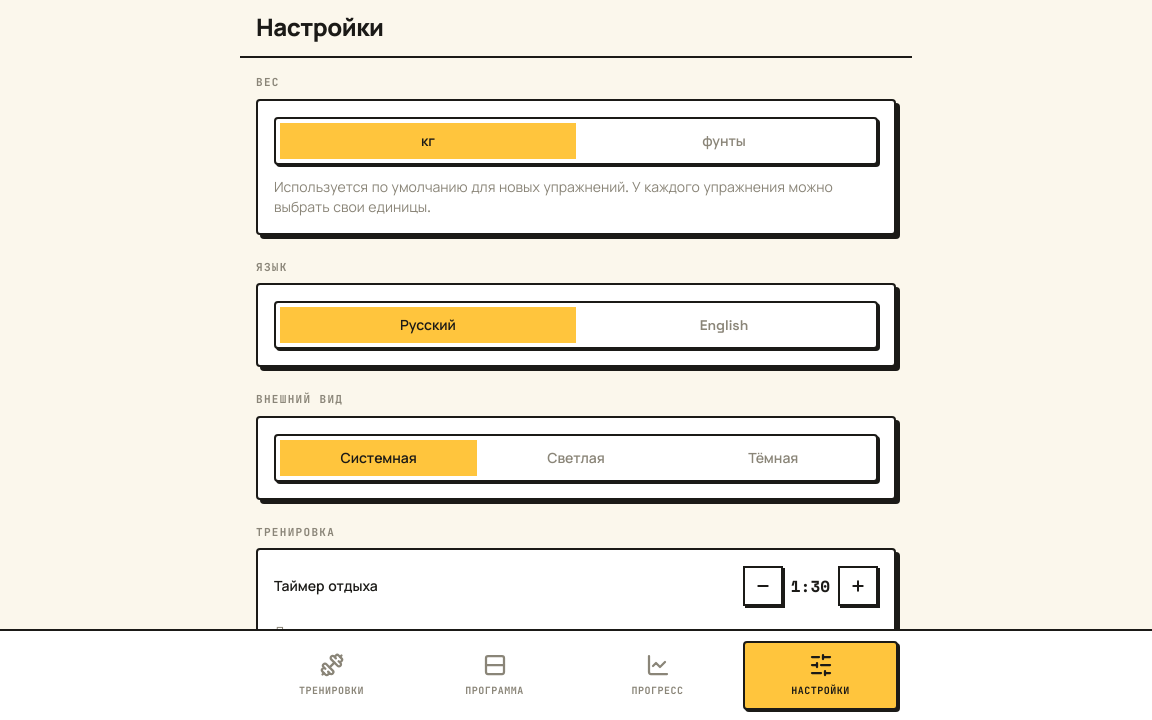
Test: Settings — weight unit › changing the default unit applies to exercises added afterwards
Expected: the heading "Настройки" is shown, [256,15,383,41]
Click the radio button labelled "фунты" at [724, 140], box [576,122,872,158]
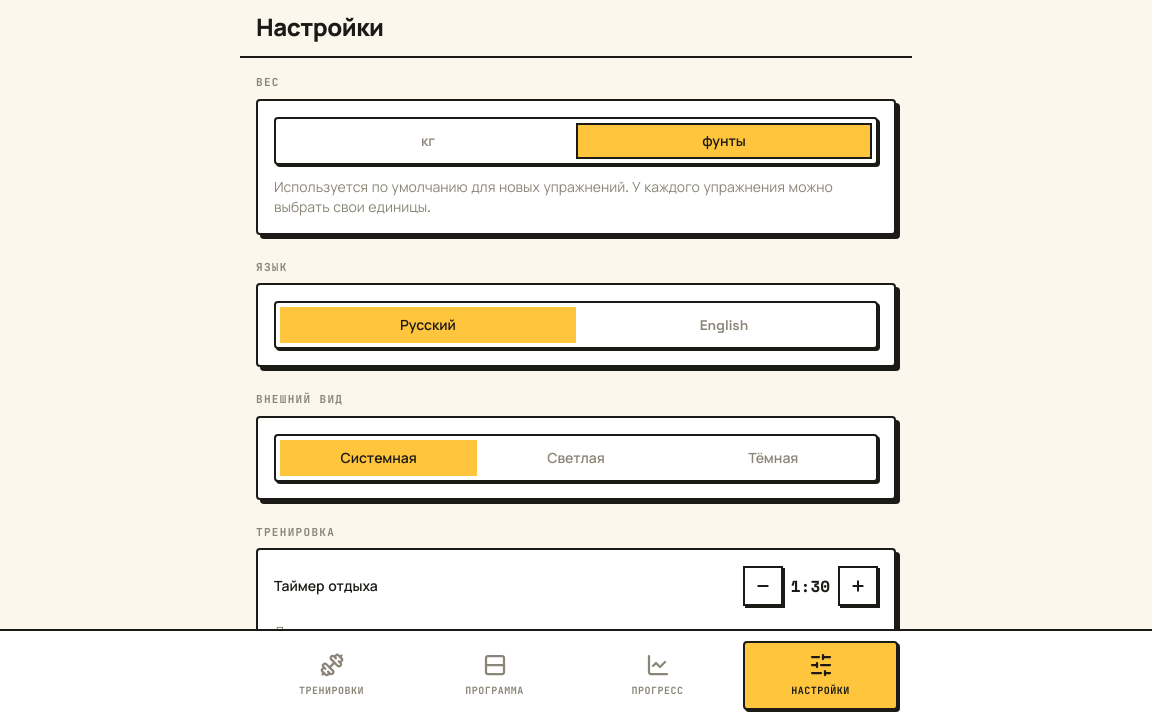
Click the link "Программа" at [495, 676], box [465,653,524,698]
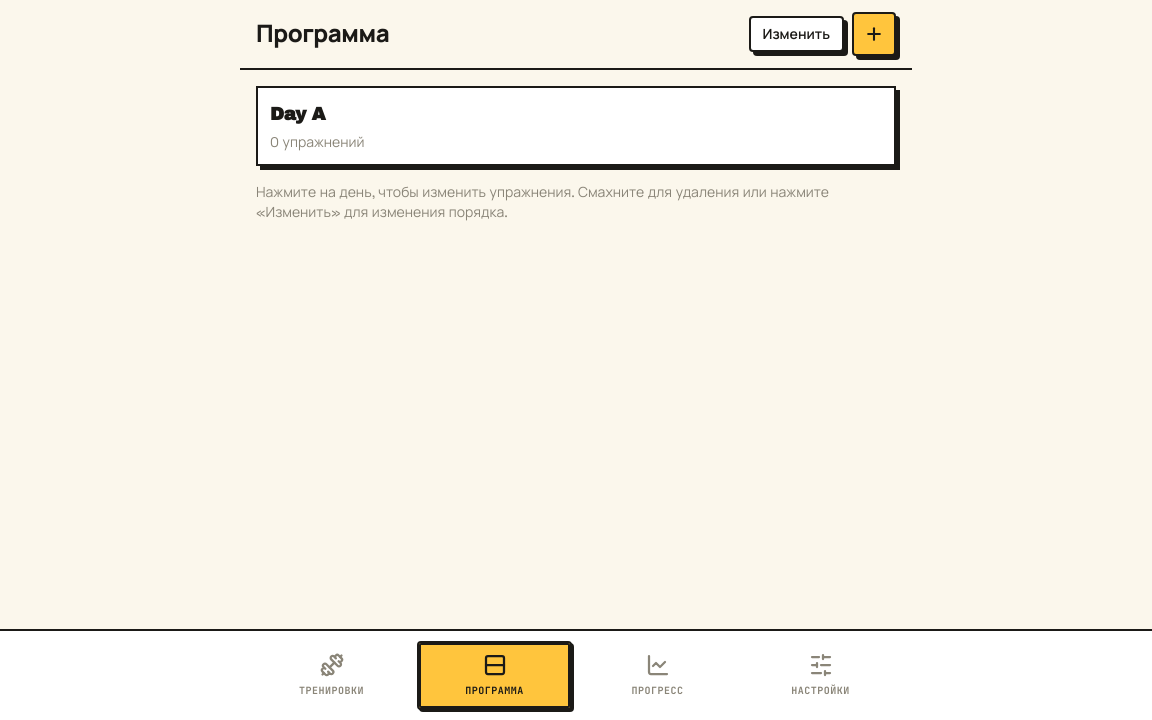
Click the link "Day A 0 упражнений" at [298, 114], box [256,86,896,166]
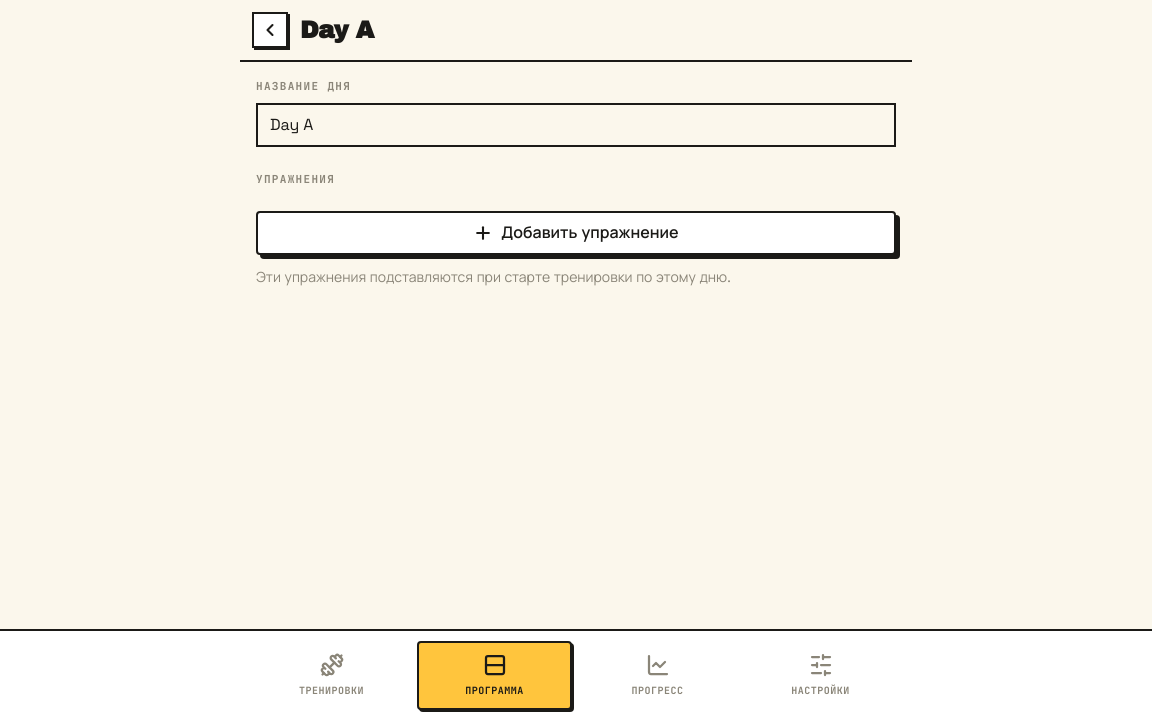
Click the button "Добавить упражнение" at [576, 233], box [256,211,896,255]
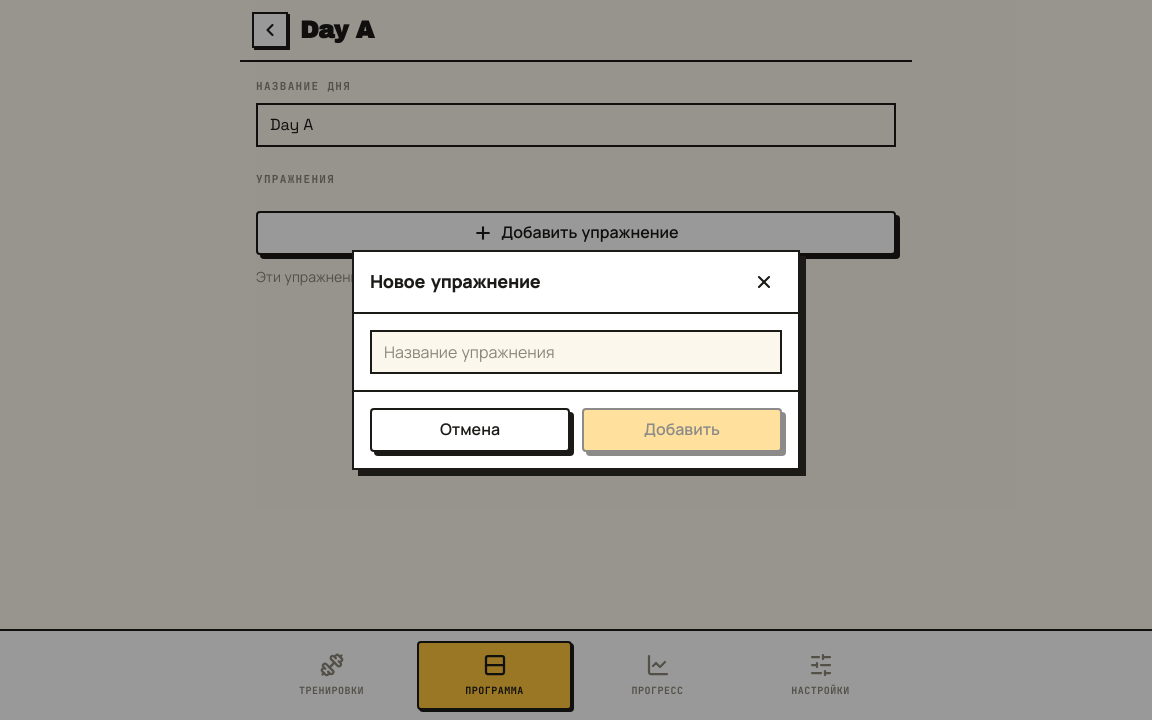
Type "Bench press" into the field with placeholder "Название упражнения" at [576, 352], box [370,330,782,374]
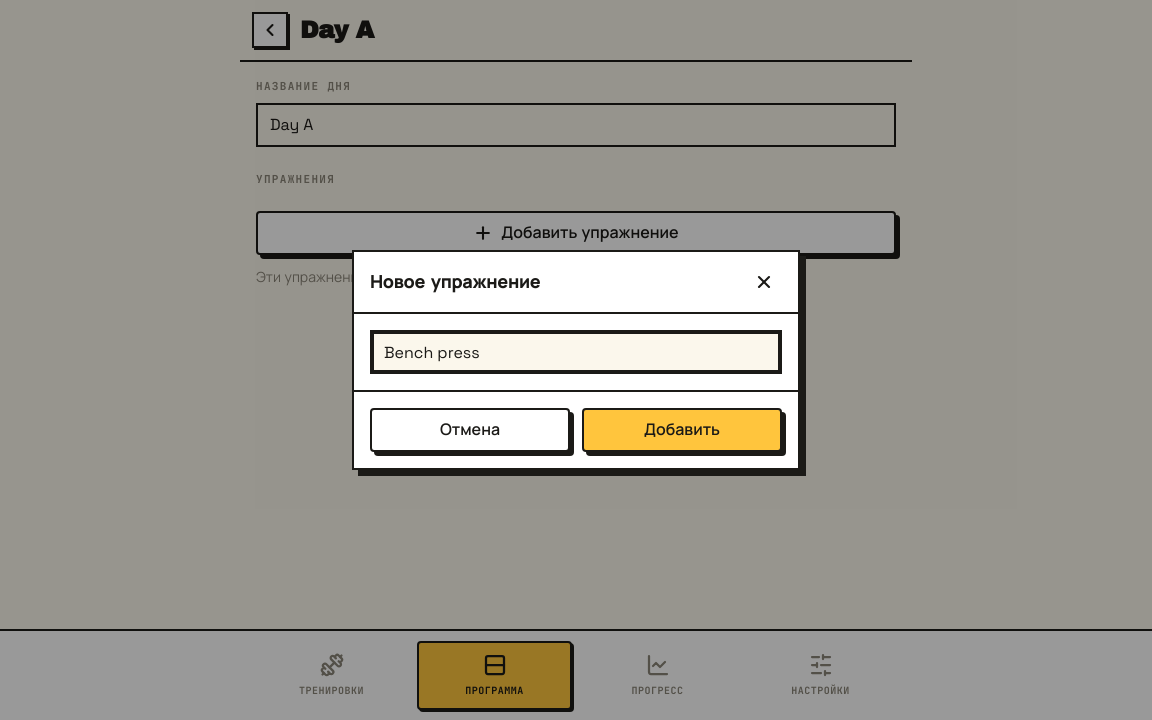
Click the button "Добавить" at [682, 430], box [582,408,782,452]
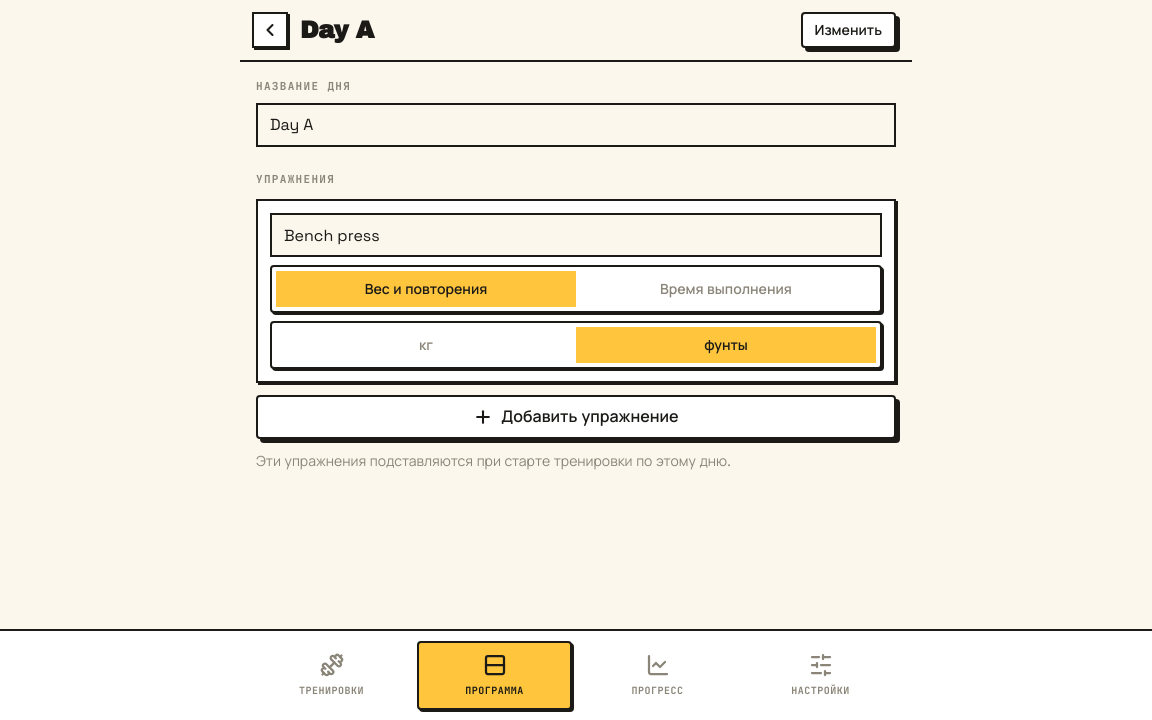
Now the 2nd field showing "Bench press" is shown, box [270,213,882,257]
Now the dialog is gone
Now the radio button labelled "фунты" is shown, box [576,327,876,363]
